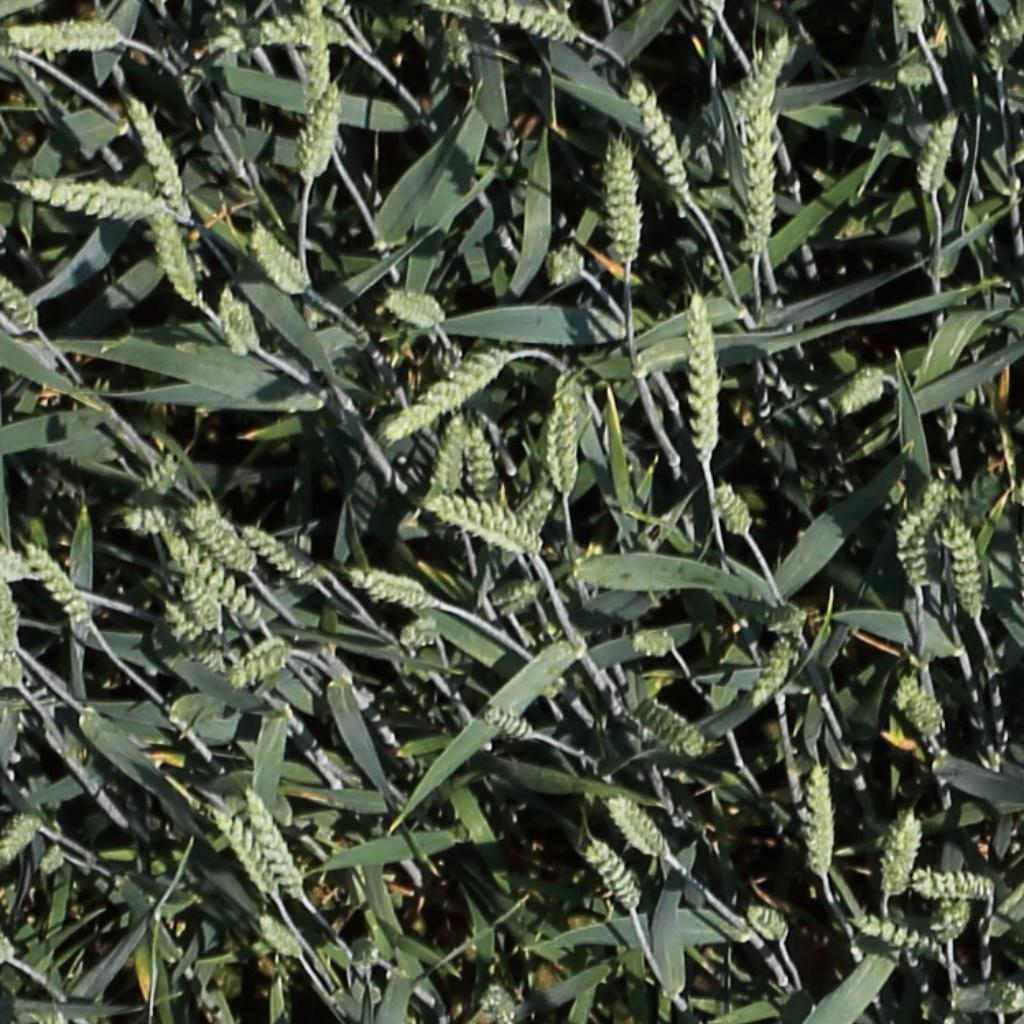0-0: (155, 514, 264, 632), (121, 86, 195, 222), (626, 77, 697, 202), (243, 785, 308, 901), (210, 804, 282, 905), (15, 178, 160, 226), (23, 540, 95, 632), (416, 344, 512, 413), (428, 495, 540, 551), (148, 200, 203, 307), (737, 30, 797, 128), (898, 479, 953, 581), (439, 0, 581, 39), (689, 286, 719, 465), (248, 218, 312, 296), (857, 914, 954, 965), (297, 79, 344, 182), (241, 525, 319, 587), (584, 839, 645, 917), (185, 498, 248, 573), (169, 624, 244, 687), (5, 20, 130, 57), (943, 518, 985, 625), (748, 630, 801, 714), (607, 795, 671, 864), (545, 374, 578, 502), (917, 106, 962, 197), (749, 109, 776, 259), (636, 700, 707, 757), (120, 447, 180, 514), (608, 135, 637, 264), (216, 285, 265, 360), (897, 673, 947, 745), (535, 233, 594, 293), (887, 808, 924, 903), (435, 406, 471, 501), (349, 569, 436, 608), (809, 763, 836, 883), (177, 570, 223, 640), (711, 476, 757, 540), (115, 501, 181, 545), (223, 647, 292, 688), (517, 481, 561, 544), (466, 419, 498, 505), (0, 812, 45, 873), (0, 270, 42, 335), (255, 910, 307, 962), (260, 20, 353, 46), (839, 368, 890, 415), (932, 895, 973, 953), (386, 402, 442, 441), (307, 25, 331, 107), (746, 903, 791, 946), (626, 626, 681, 661), (385, 292, 445, 324), (484, 708, 539, 741), (0, 568, 21, 653), (950, 988, 1024, 1011), (910, 877, 995, 897), (483, 977, 517, 1024), (895, 59, 943, 92), (488, 582, 542, 611), (0, 529, 30, 577), (35, 841, 68, 883), (898, 0, 931, 39), (0, 639, 24, 690), (0, 929, 15, 970), (0, 614, 13, 645)
